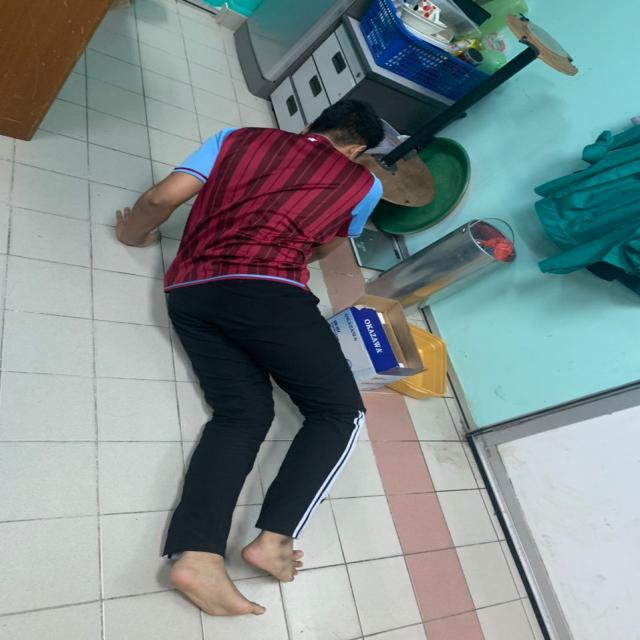Fall-Detected: (105, 98, 420, 611)
